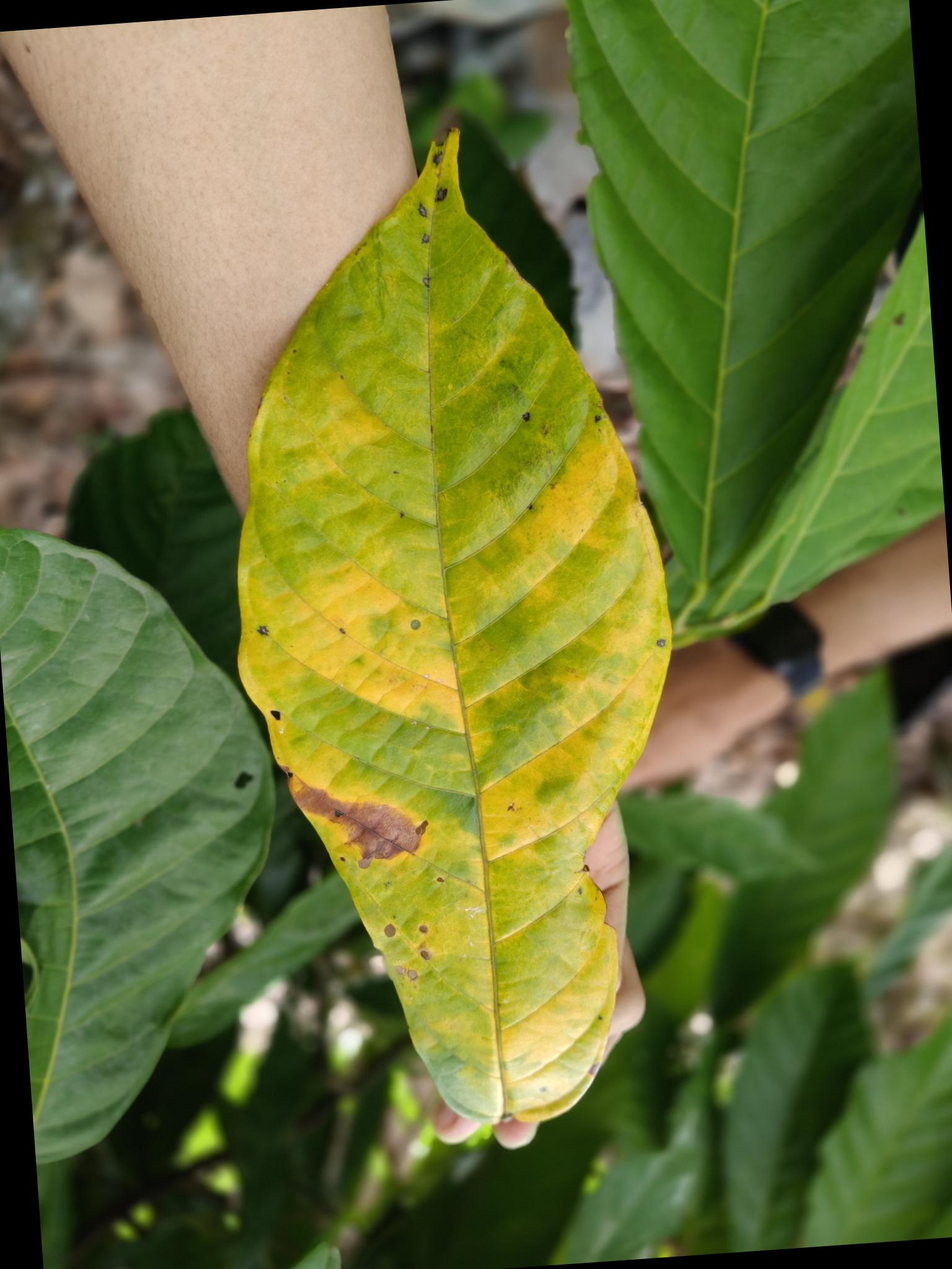Fosforo: (221, 123, 663, 1137)
